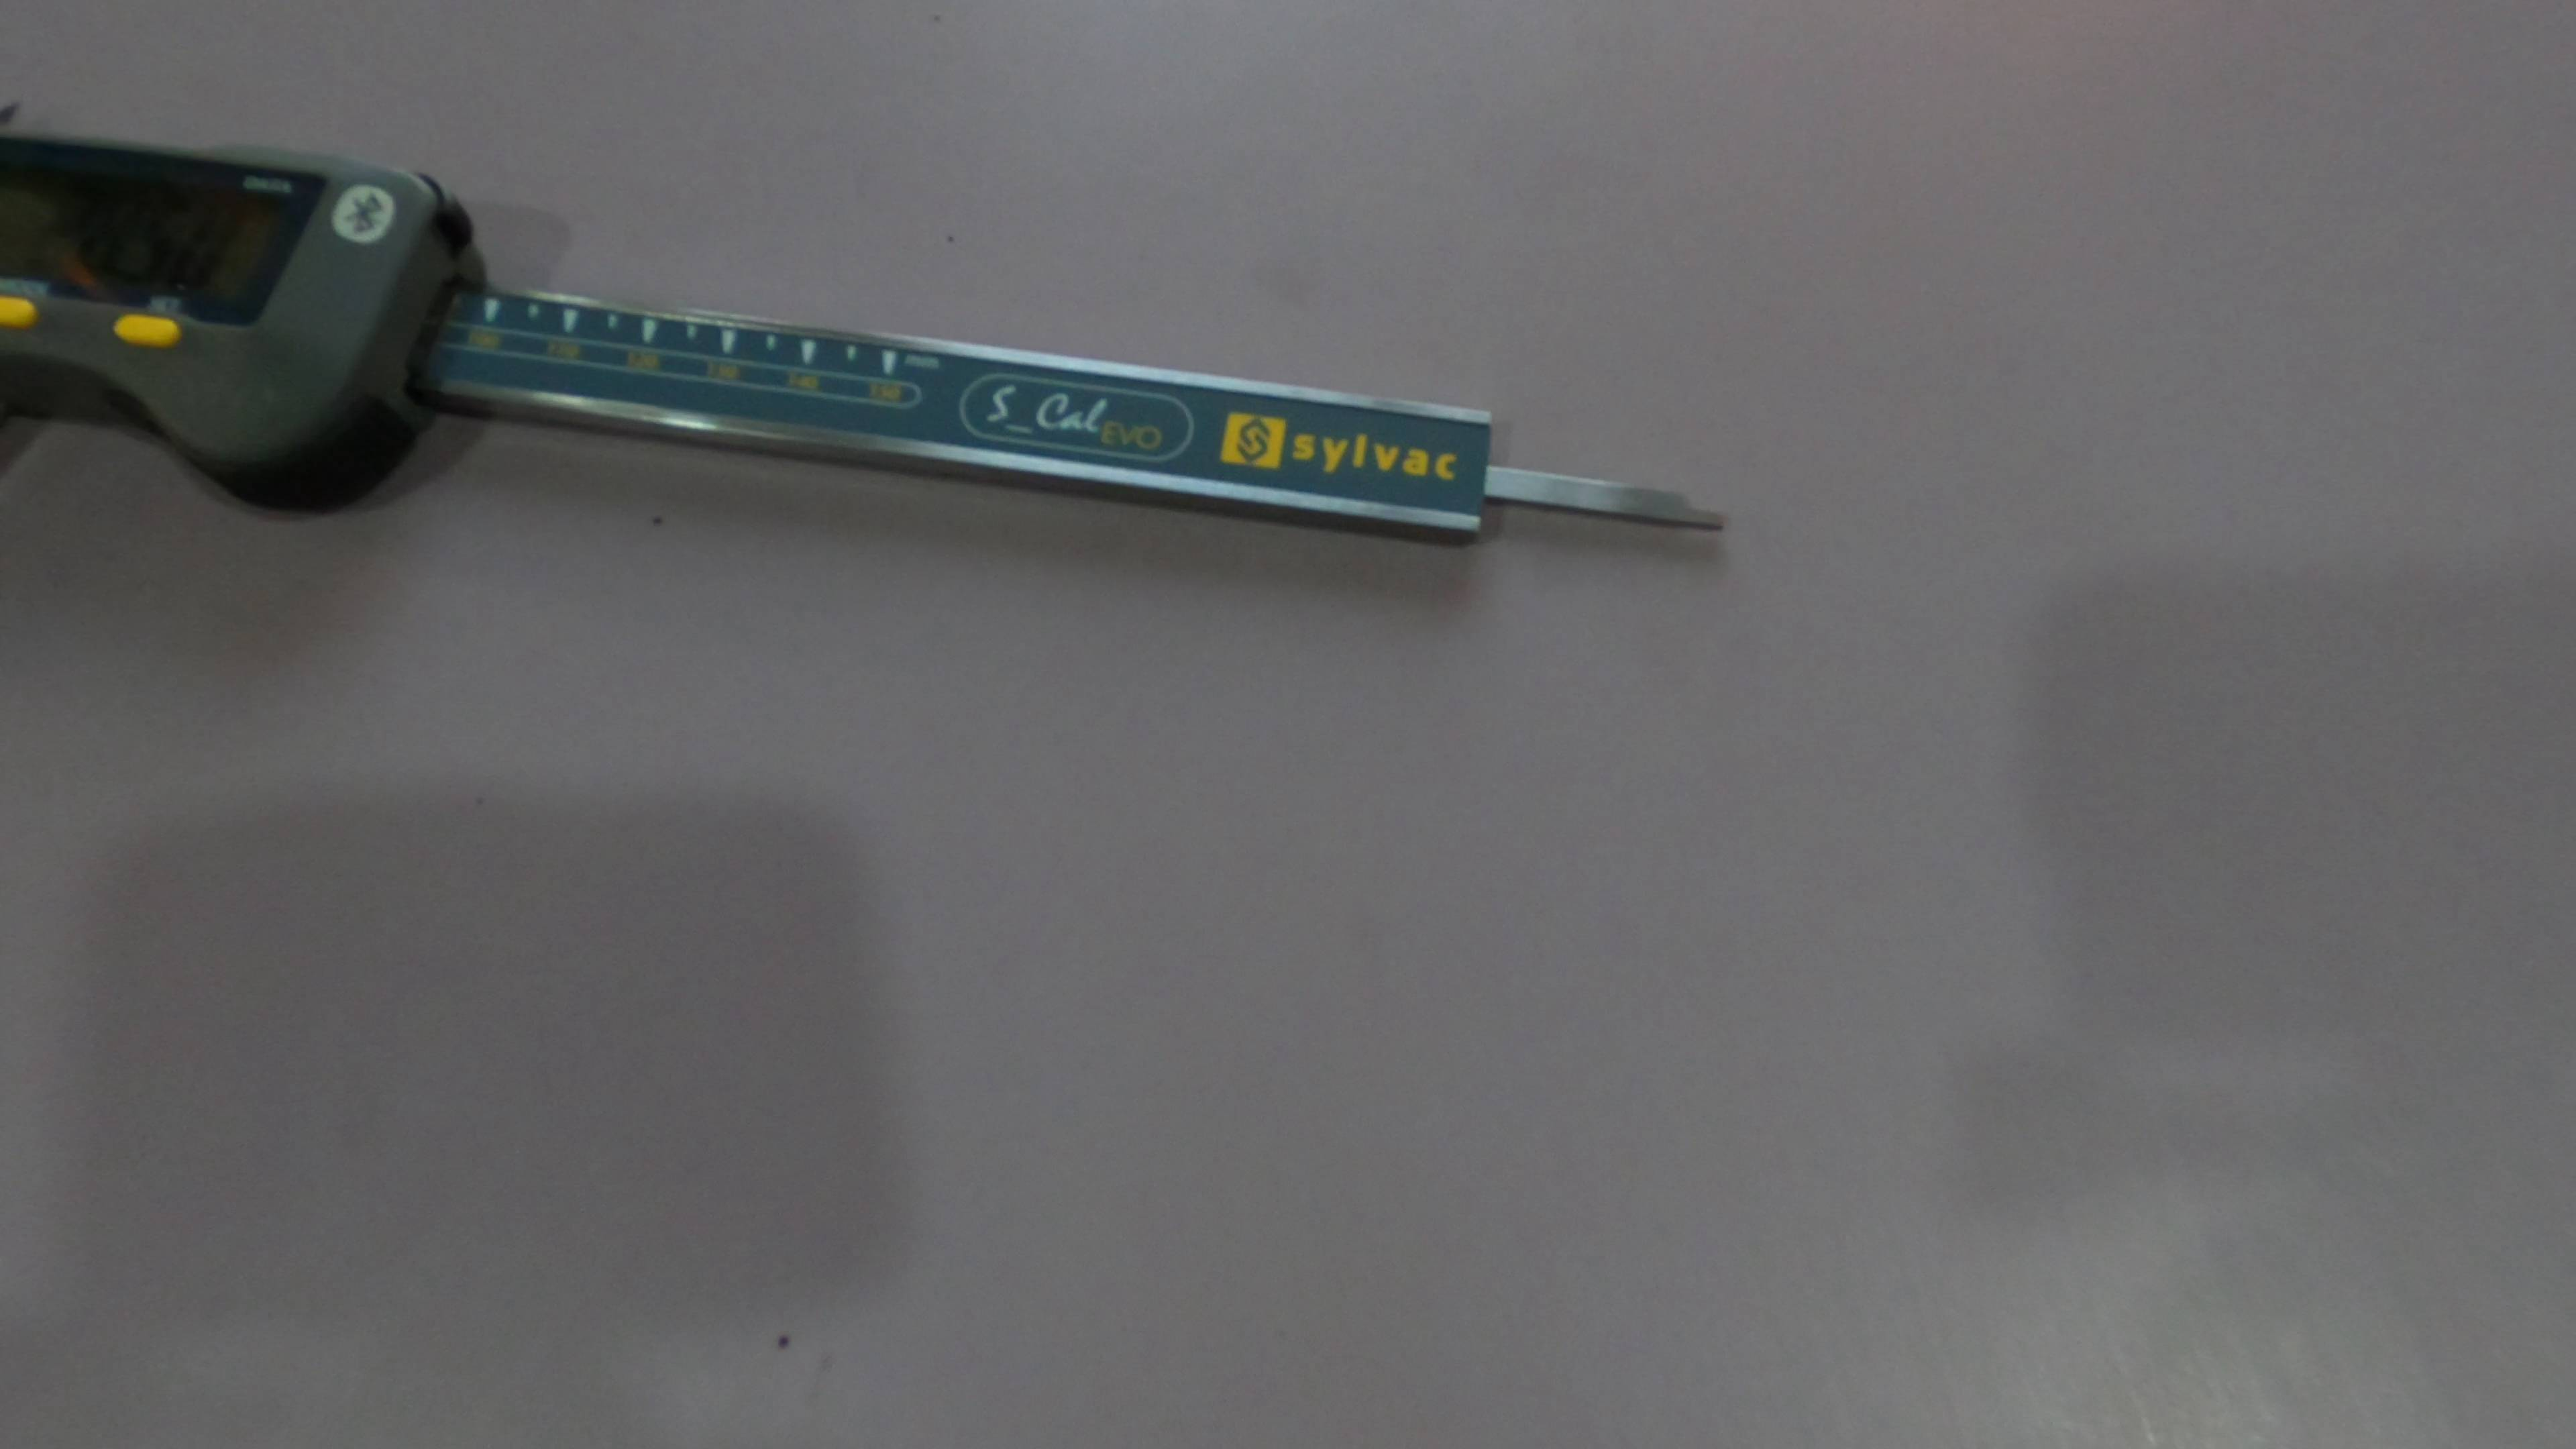vernier_caliper: (4, 110, 1737, 557)
